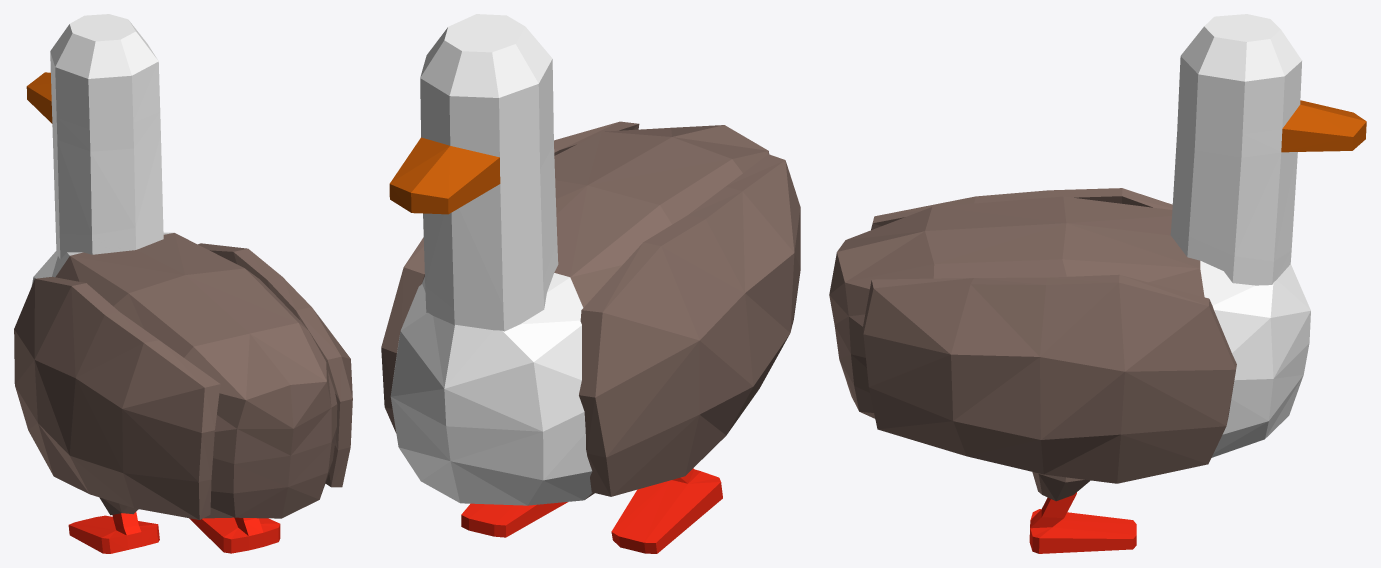
The model's file is bottle.obj.
3 renders of one model, left to right at view 1: azimuth 30°, elevation 25°; view 2: azimuth 150°, elevation 25°; view 3: azimuth 270°, elevation 25°, orthographic. The views are drawn at different scales.
Visible parts, largest first — view 1: tail, chest, head, Entities_duck_body_duck_green, neck, Entities_duck_body_duck_white, fin.R, fin.L, tail2, Entities_duck_body_duck_yellow, Entities_duck_body_duck_orange; view 2: chest, tail, head, neck, Entities_duck_body_duck_green, Entities_duck_body_duck_yellow, fin.L, Entities_duck_body_duck_white, fin.R, Entities_duck_body_duck_orange; view 3: chest, tail, head, neck, Entities_duck_body_duck_green, fin.R, Entities_duck_body_duck_yellow, Entities_duck_body_duck_white, shin.R, thigh.R.
Part boxes in pixels (box(x1,y1,x2,y2)): tail: box(35, 249, 352, 519); chest: box(14, 233, 297, 493); head: box(50, 14, 160, 234); Entities_duck_body_duck_green: box(50, 14, 160, 151); neck: box(52, 126, 173, 277); Entities_duck_body_duck_white: box(55, 218, 163, 258); fin.R: box(189, 517, 280, 553); fin.L: box(69, 515, 159, 553); tail2: box(246, 381, 326, 428); Entities_duck_body_duck_yellow: box(26, 72, 52, 123); Entities_duck_body_duck_orange: box(68, 522, 159, 553); chest: box(381, 132, 752, 505); tail: box(554, 121, 800, 435); head: box(420, 14, 557, 305); neck: box(425, 170, 583, 388); Entities_duck_body_duck_green: box(420, 14, 553, 169); Entities_duck_body_duck_yellow: box(389, 137, 500, 214); fin.L: box(611, 469, 722, 553); Entities_duck_body_duck_white: box(425, 242, 558, 331); fin.R: box(461, 502, 567, 537); Entities_duck_body_duck_orange: box(613, 485, 721, 553); chest: box(932, 188, 1310, 483); tail: box(829, 188, 1124, 474); head: box(1172, 14, 1301, 259); neck: box(1172, 151, 1310, 309); Entities_duck_body_duck_green: box(1177, 16, 1301, 157); fin.R: box(1029, 509, 1136, 553); Entities_duck_body_duck_yellow: box(1281, 100, 1366, 152); Entities_duck_body_duck_white: box(1170, 213, 1291, 285); shin.R: box(1032, 472, 1090, 501); thigh.R: box(1030, 492, 1076, 527).
Bounding box in the file's own units: 0.3394 × 0.6101 × 0.6108.
